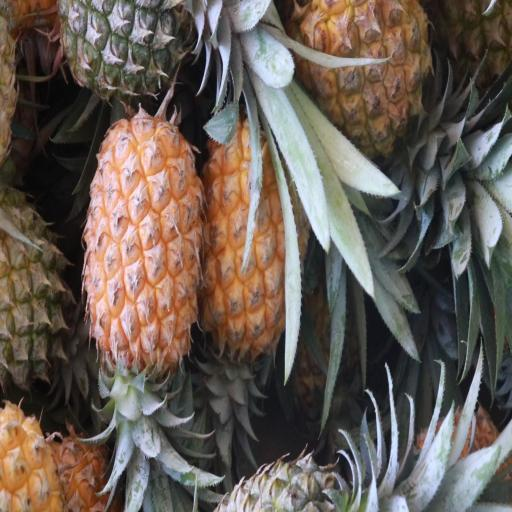Pineapple - v8 v1: (84, 117, 202, 359), (202, 121, 308, 353), (298, 0, 432, 160)
